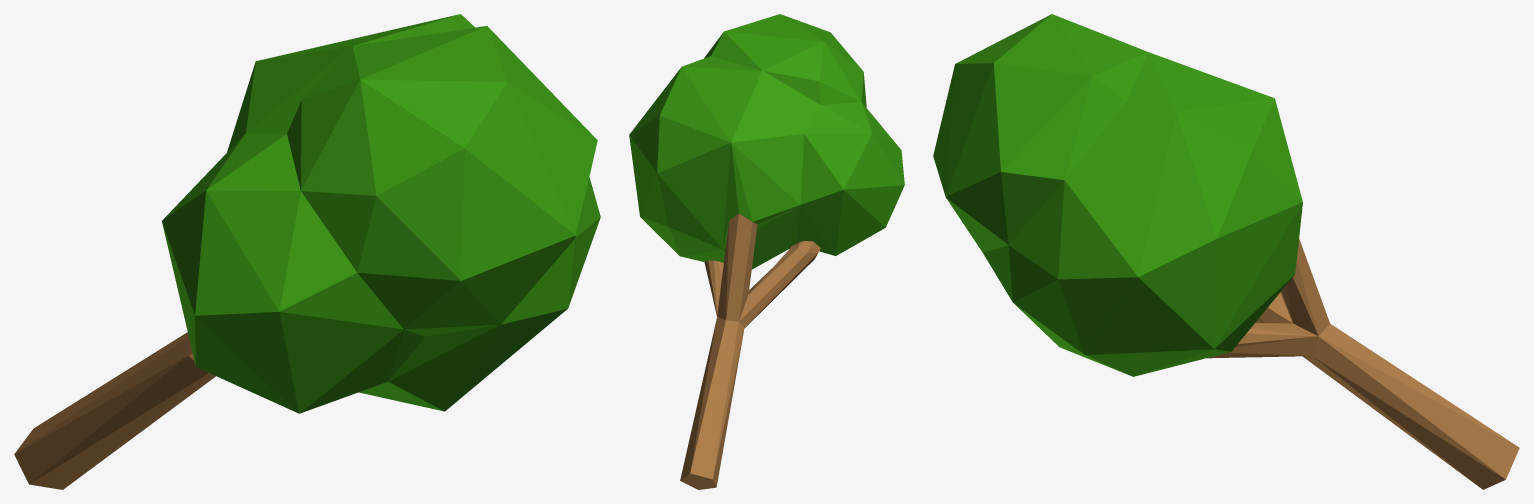
3 renders of one model, left to right at view 1: azimuth 30°, elevation 25°; view 2: azimuth 150°, elevation 25°; view 3: azimuth 270°, elevation 25°, orthographic. The views are drawn at different scales.
Parts seen in each view (by area): view 1: Mesh_0.001; view 2: Mesh_0.001; view 3: Mesh_0.001.
Part boxes in pixels (<box>): Mesh_0.001: <box>14,14,600,489</box>; Mesh_0.001: <box>629,14,904,489</box>; Mesh_0.001: <box>933,14,1519,489</box>.
Size of the model in its own units: 6.84 by 8.99 by 9.73.
Materials: 1 (1 with a texture image).
